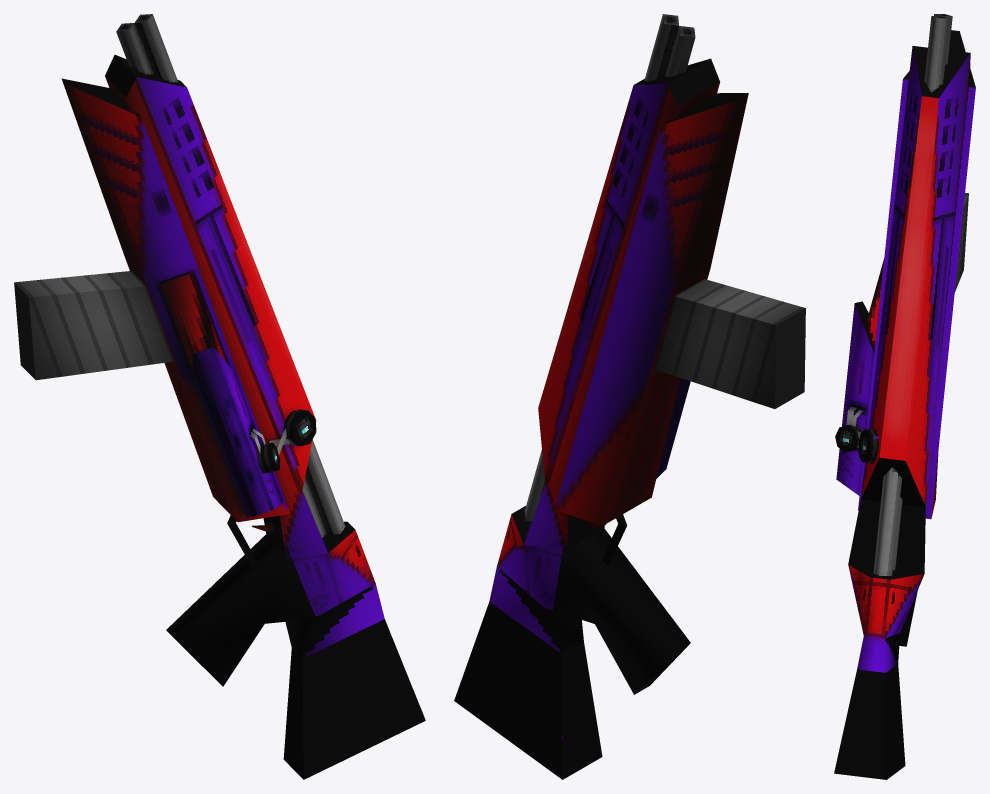
Rendered from exo_red.gltf.
3 views of the same model, side by side, from view 1: azimuth 30°, elevation 25°; view 2: azimuth 150°, elevation 25°; view 3: azimuth 270°, elevation 25° (orthographic). The views are drawn at different scales.
Visible parts, largest first — view 1: rifle mag.001; view 2: rifle mag.001; view 3: rifle mag.001.
Boxes of the visible parts, box(x1,y1,x2,y2) form: rifle mag.001: box(14, 14, 425, 779); rifle mag.001: box(454, 14, 805, 779); rifle mag.001: box(834, 14, 975, 779).
Size of the model in its own units: 0.39 by 0.8007 by 0.1477.
1 material, 1 textured.
